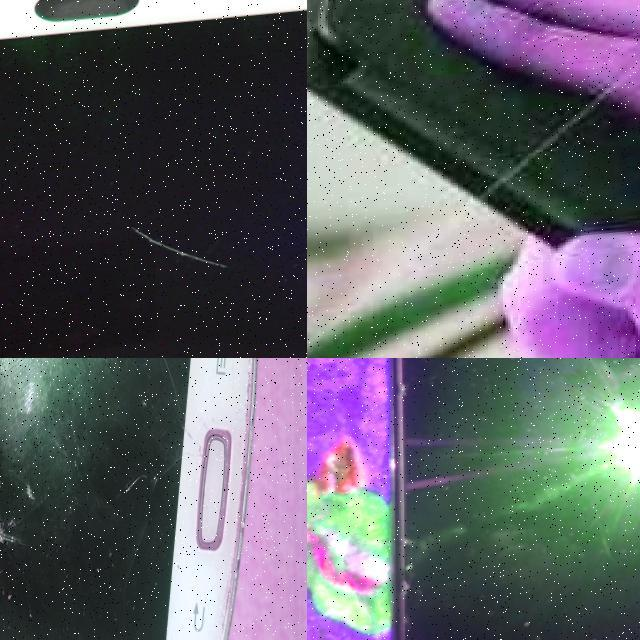scratch: (129, 222, 229, 285), (117, 459, 145, 527)
screen crack: (379, 358, 547, 405), (0, 517, 32, 574)
